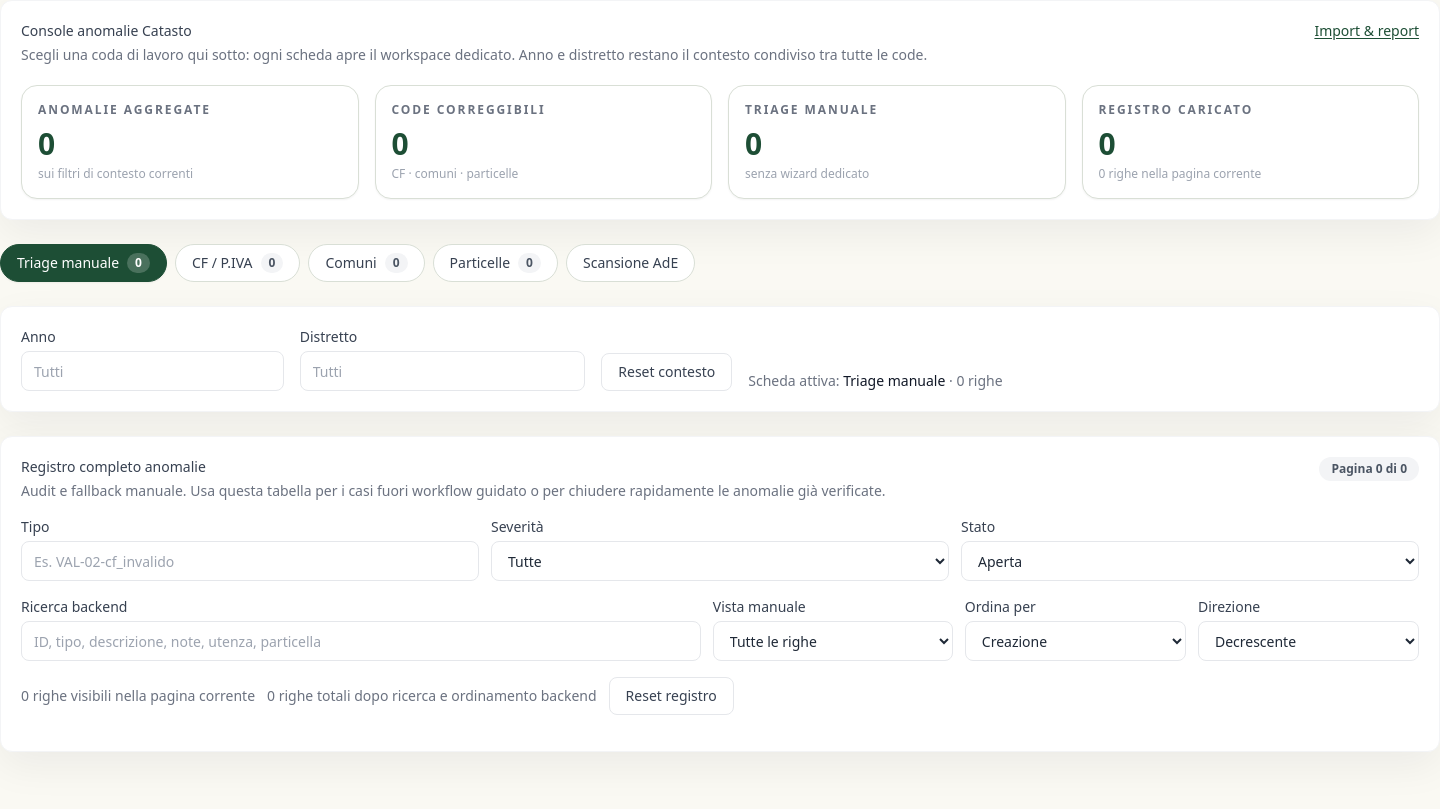
Test: R29 original Particella public selection and correction lifecycle › manual tab takes precedence until public navigation sets canonical type and URL
Expected: the button "Reset contesto" is enabled, [601,353,732,391]
Click the button "Particelle 0" at (495, 263), box [433,244,558,282]
(page scrolled)
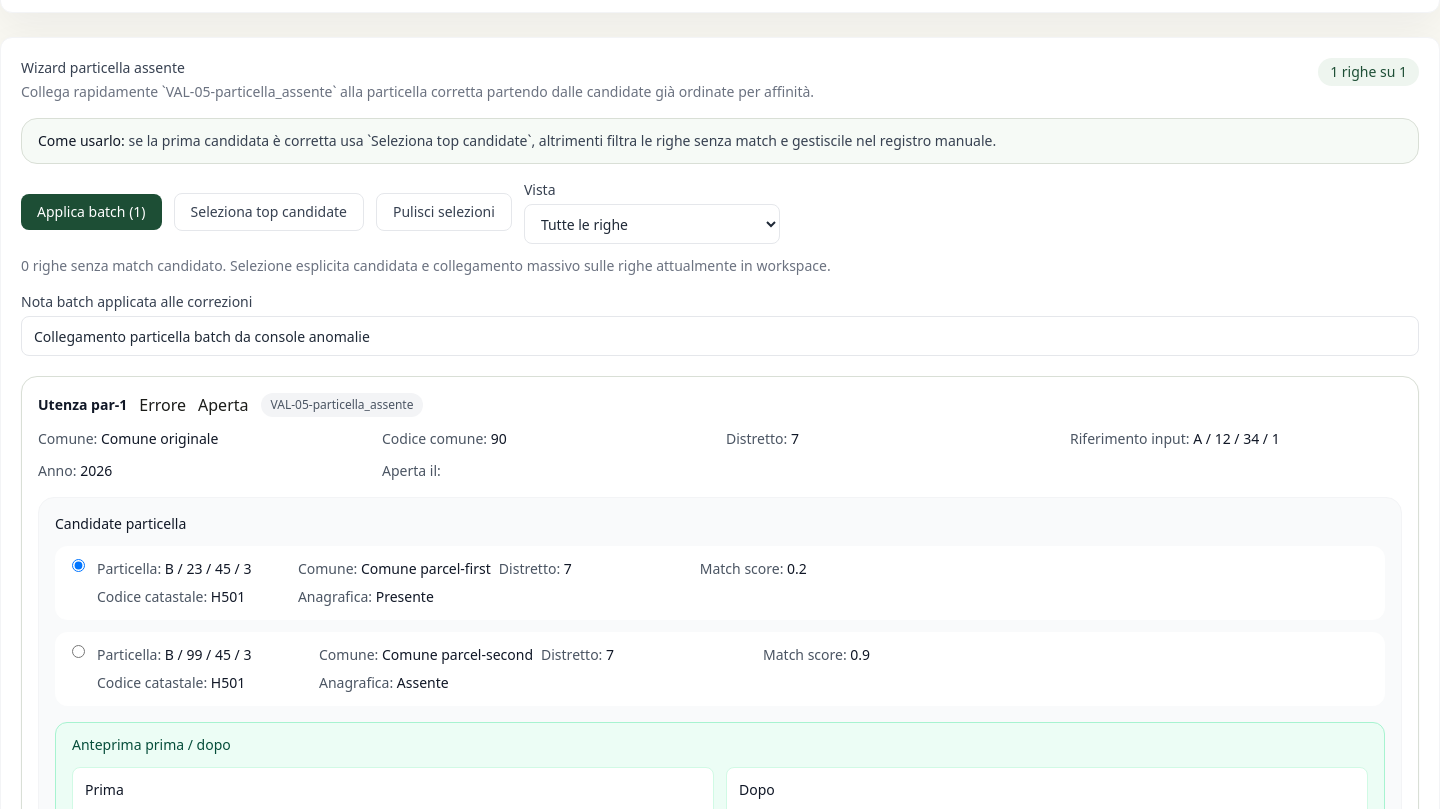
Expected: the text "Utenza par-1" is shown, [38,395,127,415]
Expected: the text "VAL-05-particella_assente" is shown, [260,393,423,417]
